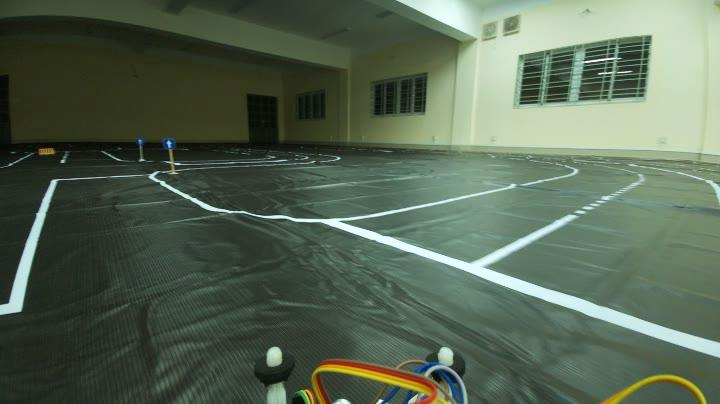onewayroad: (161, 136, 177, 148), (133, 136, 145, 144)
roadblock: (36, 144, 58, 154)
